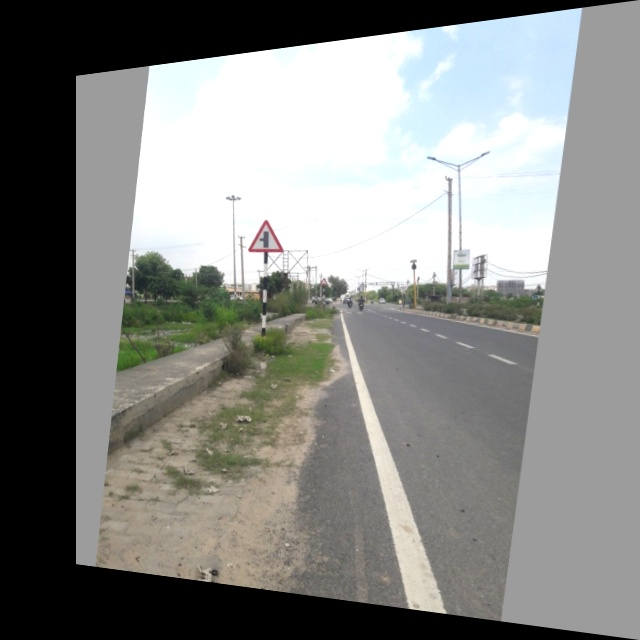Side_Road_Left: (240, 210, 288, 260)
